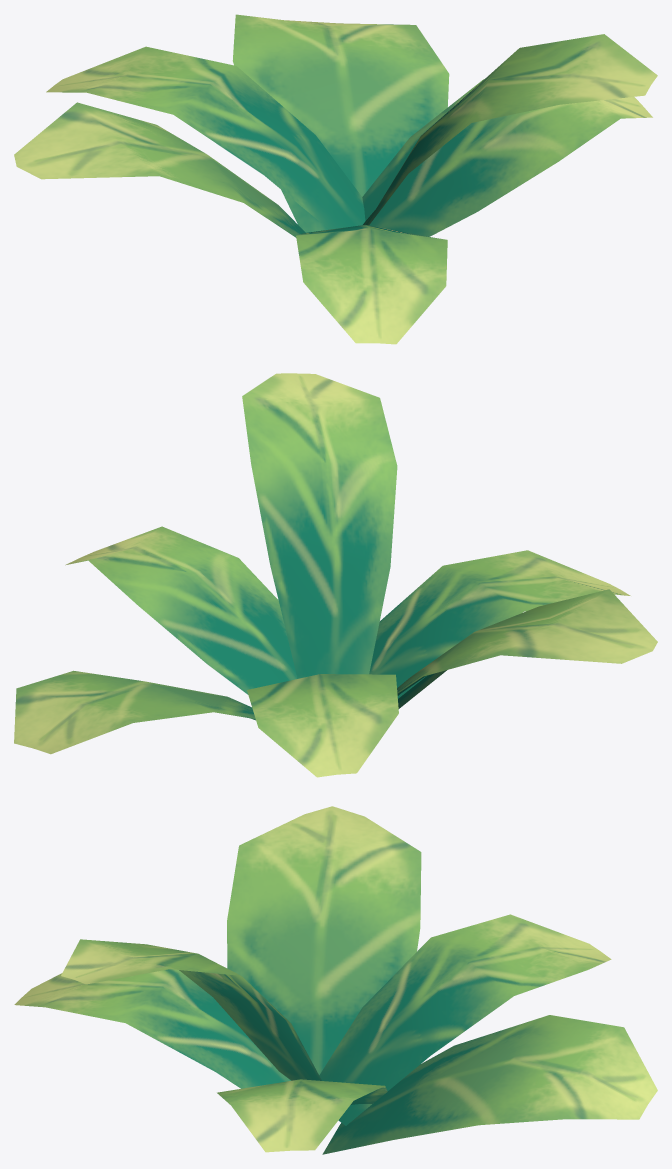
Rendered from M_fern.fbx.
The picture shows the model from 3 angles, top to bottom: view 1: azimuth 30°, elevation 25°; view 2: azimuth 150°, elevation 25°; view 3: azimuth 270°, elevation 25°; orthographic projection. The views are drawn at different scales.
Parts seen in each view (by area): view 1: M_fern; view 2: M_fern; view 3: M_fern.
Part boxes in pixels (bbox=[...]): M_fern: bbox=[14, 14, 657, 344]; M_fern: bbox=[14, 373, 657, 777]; M_fern: bbox=[14, 806, 657, 1154].
Bounding box in the file's own units: 1.17 × 1.21 × 0.4737.
Materials: 1 (1 with a texture image).
